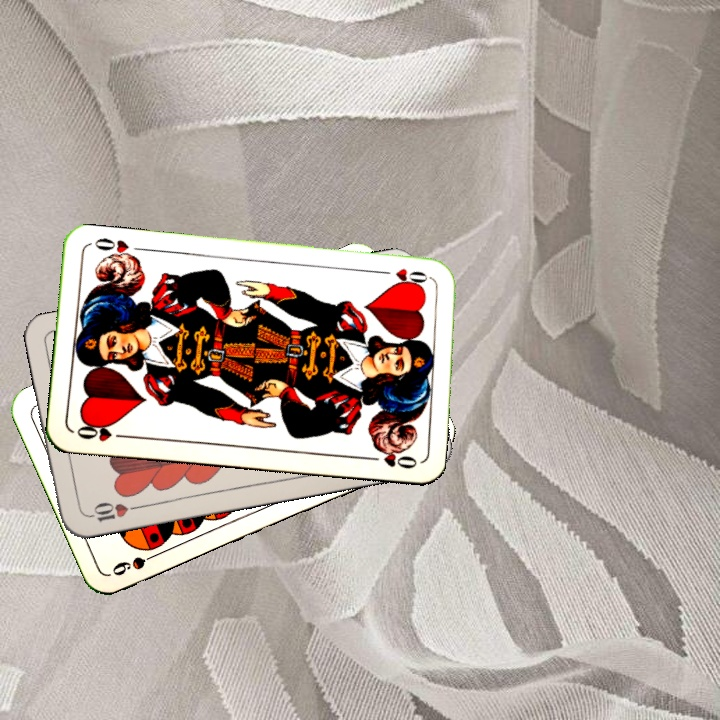H10: (83, 498, 142, 525)
HO: (73, 418, 130, 444), (390, 264, 436, 289)
S9: (107, 547, 165, 579)
